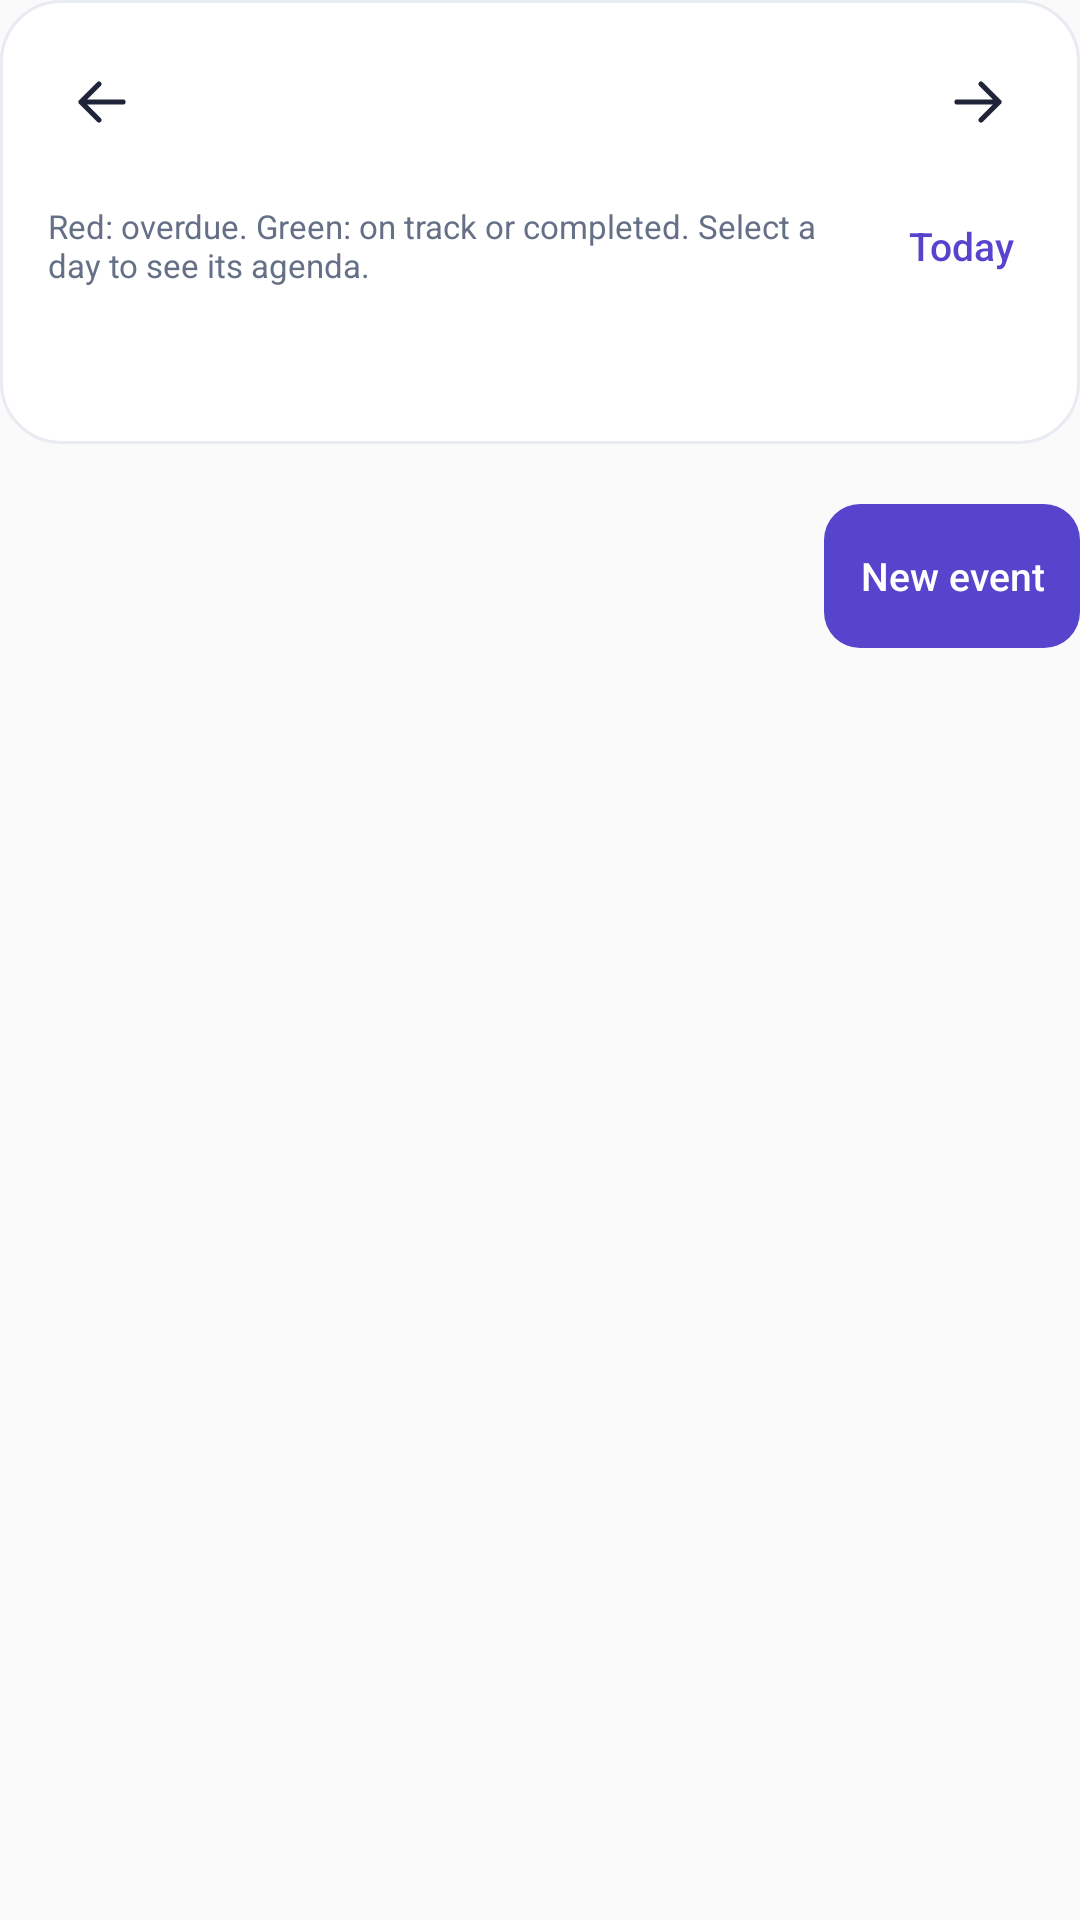

Where to tap for icons on this 1080 x 1920 app screen, as point (x, y):
Next month: point (978, 102)
Previous month: point (102, 102)
